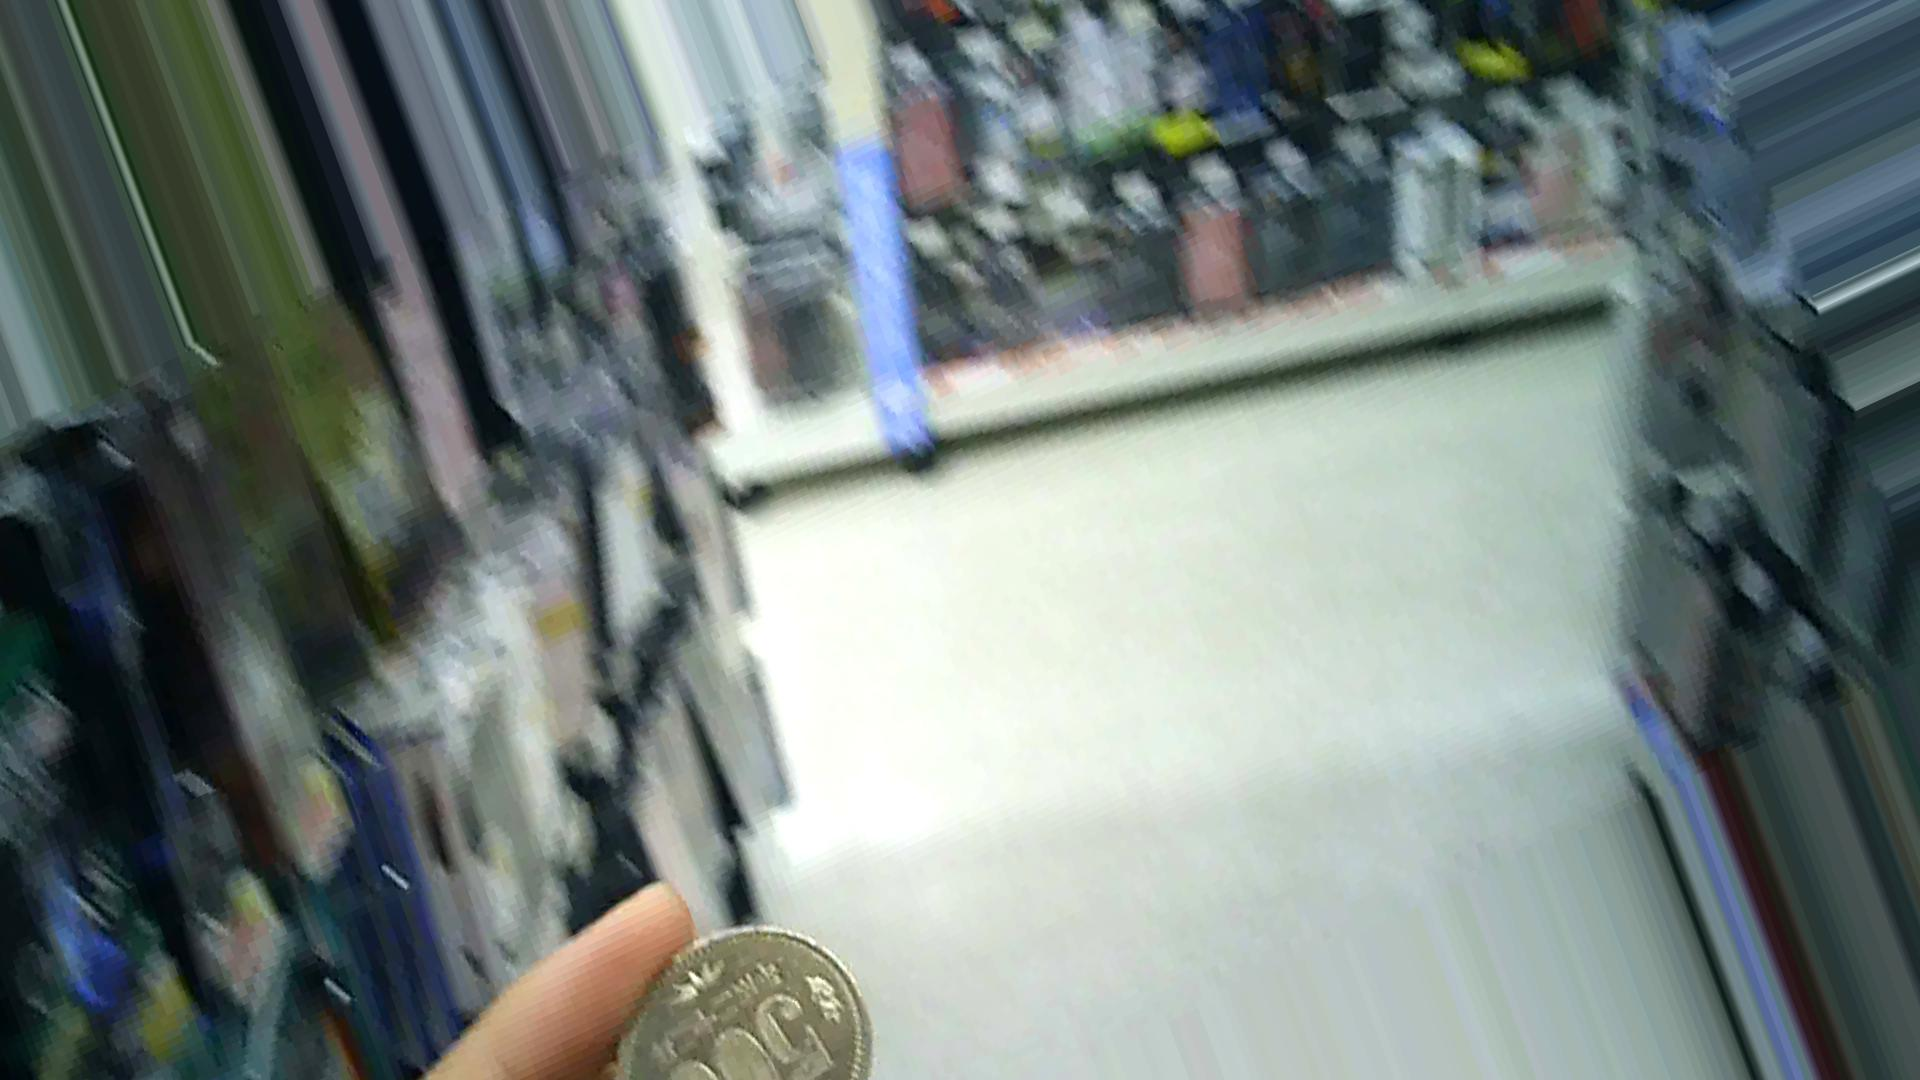500 Yen: (600, 926, 885, 1079)
